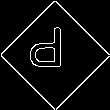P_S: (37, 30, 73, 80)
